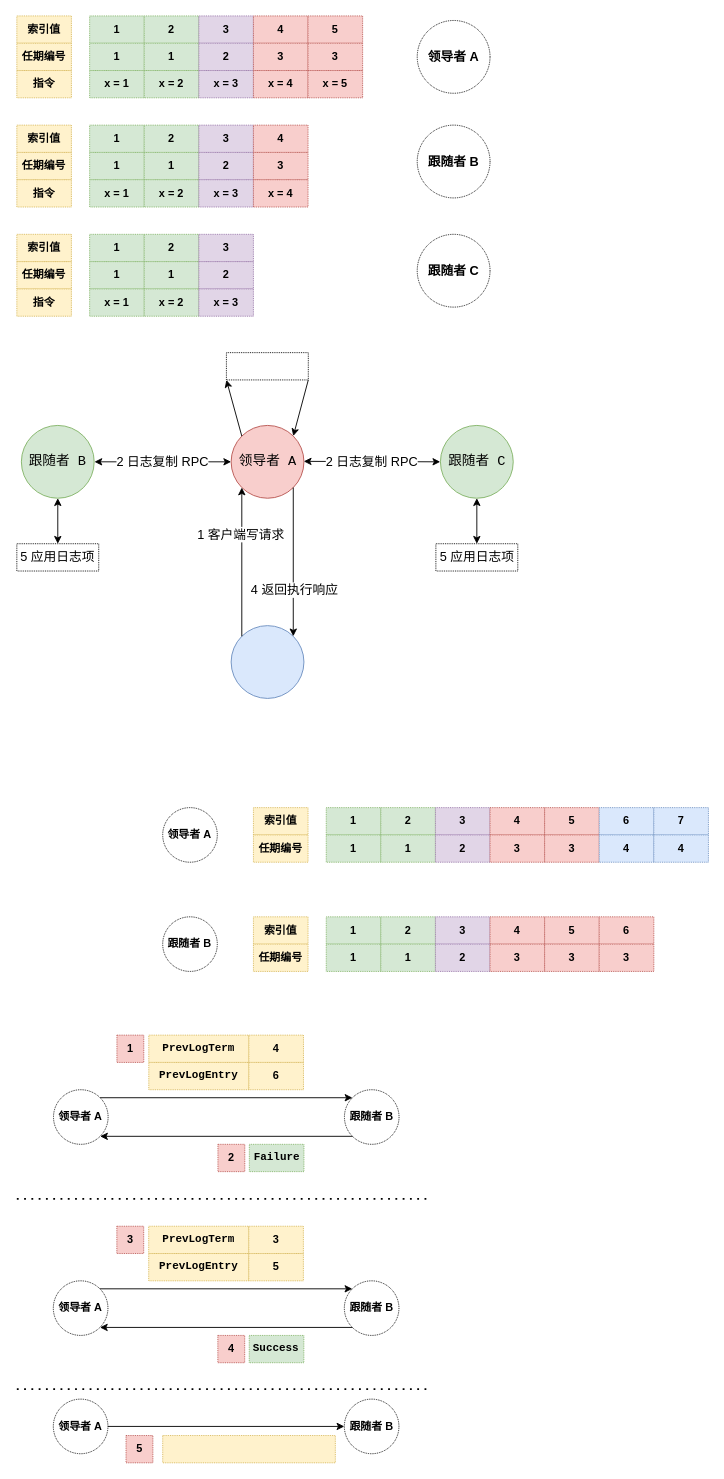
Image size: 724x1479. Some labels were removed from this diagram. The shapes that lost their labels are listed below. From the top down, each one's centre as x and y in pixels, then its label:
At (266,366): "3 应用日志项".
At (267,661): "客户端".
At (248,1449): "从索引值 5 之后 的 日志项开始 进行覆盖更新".
